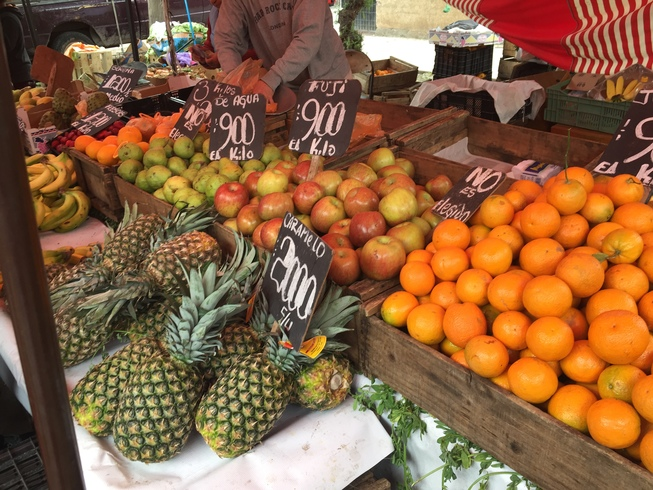precio: (250, 207, 338, 368), (288, 71, 367, 171), (587, 78, 653, 182), (436, 159, 509, 234), (174, 76, 243, 149), (210, 96, 265, 172), (69, 101, 134, 143), (97, 62, 144, 108)
